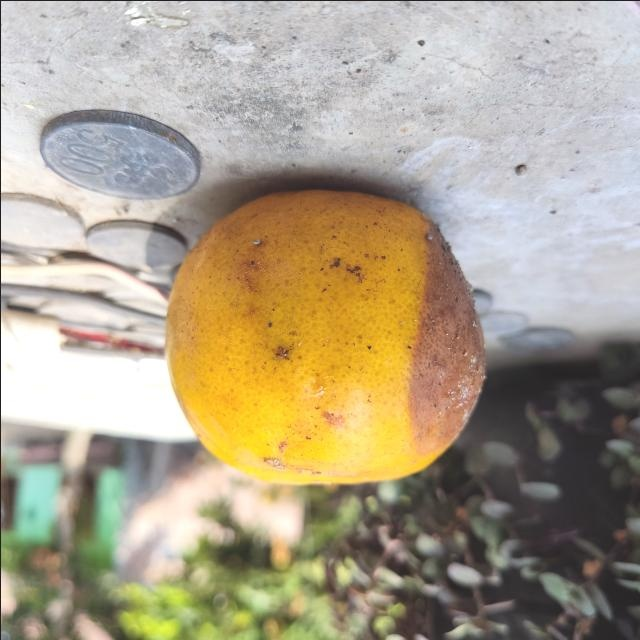agrume: (163, 192, 493, 488)
